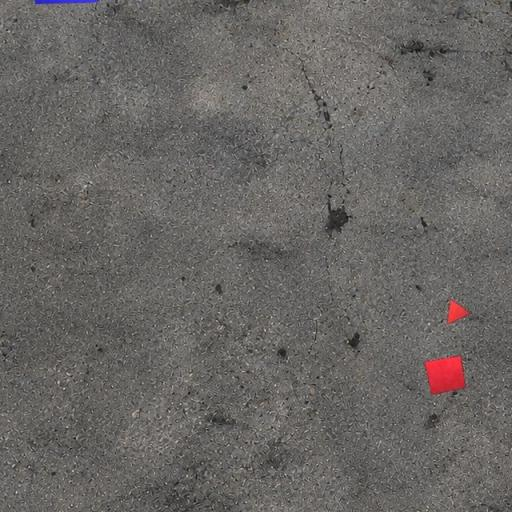RED_SQUARE: (424, 355, 466, 395)
